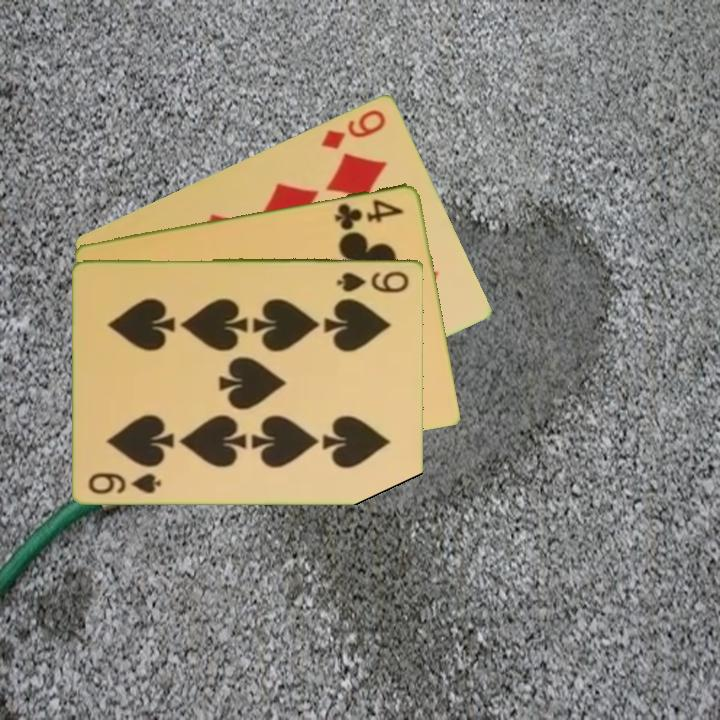4c: (331, 195, 407, 232)
9d: (318, 105, 389, 152)
9s: (85, 469, 165, 497), (333, 267, 412, 295)
